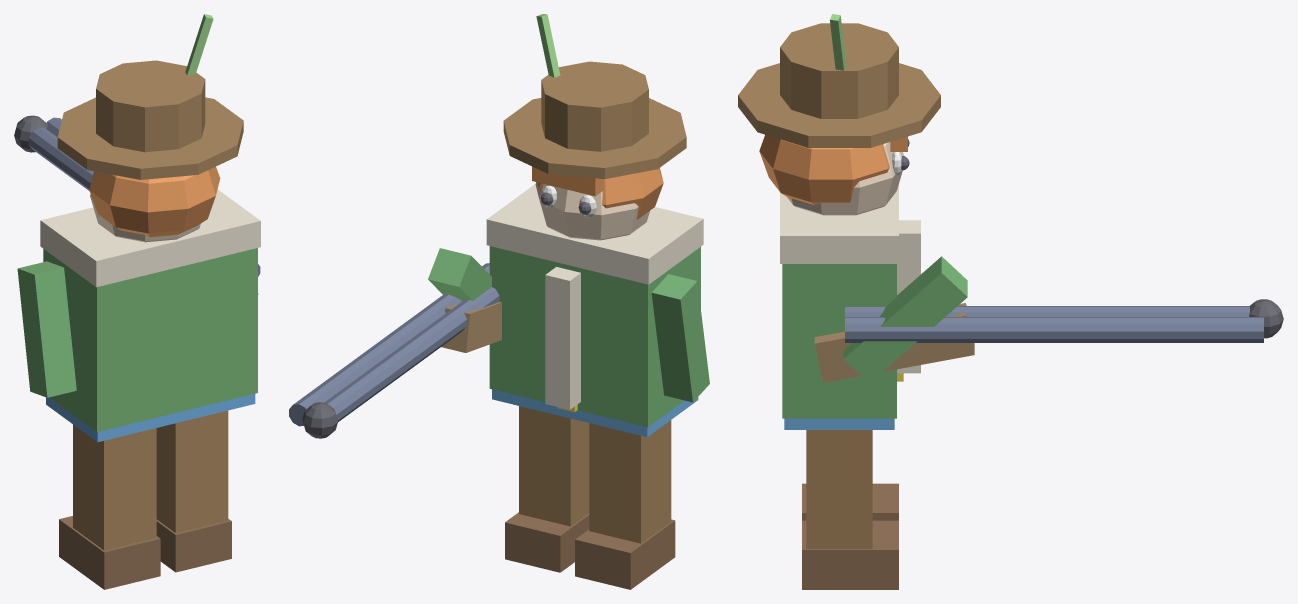
The model's file is hunter.glb.
3 renders of one model, left to right at view 1: azimuth 30°, elevation 25°; view 2: azimuth 150°, elevation 25°; view 3: azimuth 270°, elevation 25°, orthographic. The views are drawn at different scales.
Visible parts, largest first — view 1: hunter; view 2: hunter; view 3: hunter.
Part boxes in pixels (x1,y1,x2,y2): hunter: [14, 14, 260, 589]; hunter: [289, 14, 709, 589]; hunter: [738, 14, 1283, 589].
Size of the model in its own units: 1.24 by 2.85 by 2.48.
